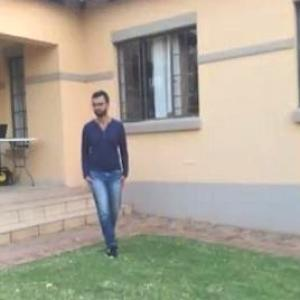follow: (78, 83, 130, 262)
